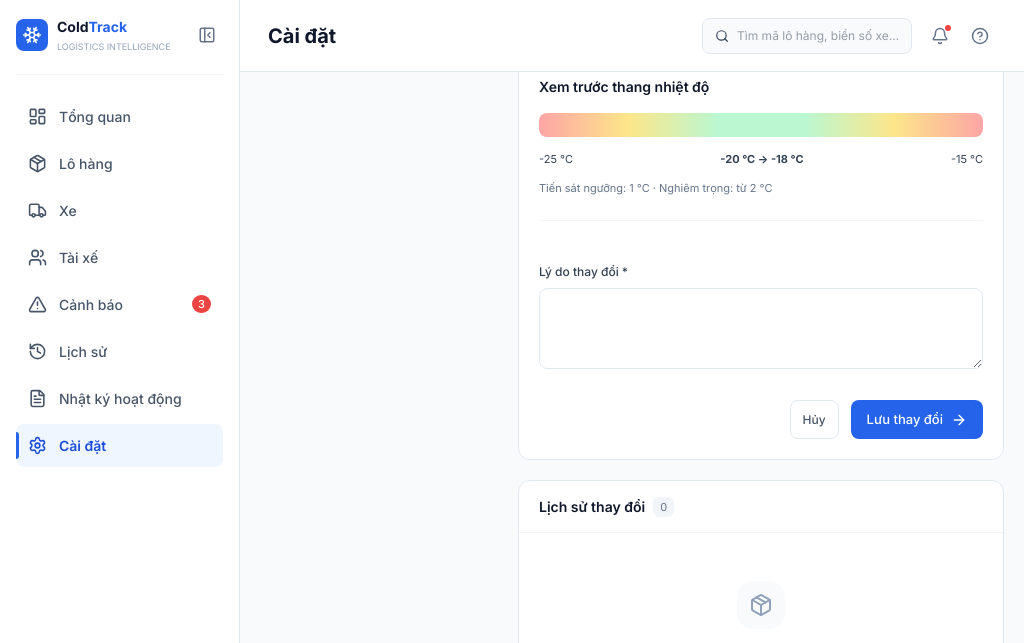
Scenario: B2 navigation and data states › requires threshold audit reason and saves with confirmation
(page scrolled)
Click the button "Lưu thay đổi".
click(917, 420)  # box x1=851 y1=400 x2=983 y2=439
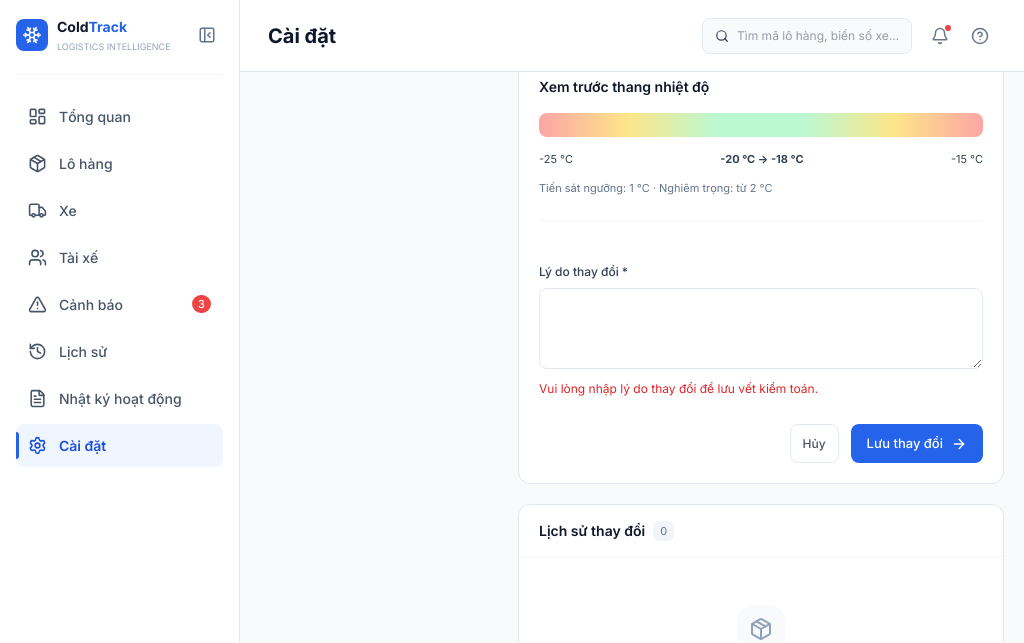
expect the text "Vui lòng nhập lý do thay đổi để lưu vết kiểm toán." is shown: met, box x1=539 y1=381 x2=818 y2=396
Type "Cập nhật dải mặc định cho đơn mới" into the text box labelled "Lý do thay đổi".
click(761, 329); type("Cập nhật dải mặc định cho đơn mới")  # box x1=539 y1=288 x2=983 y2=369
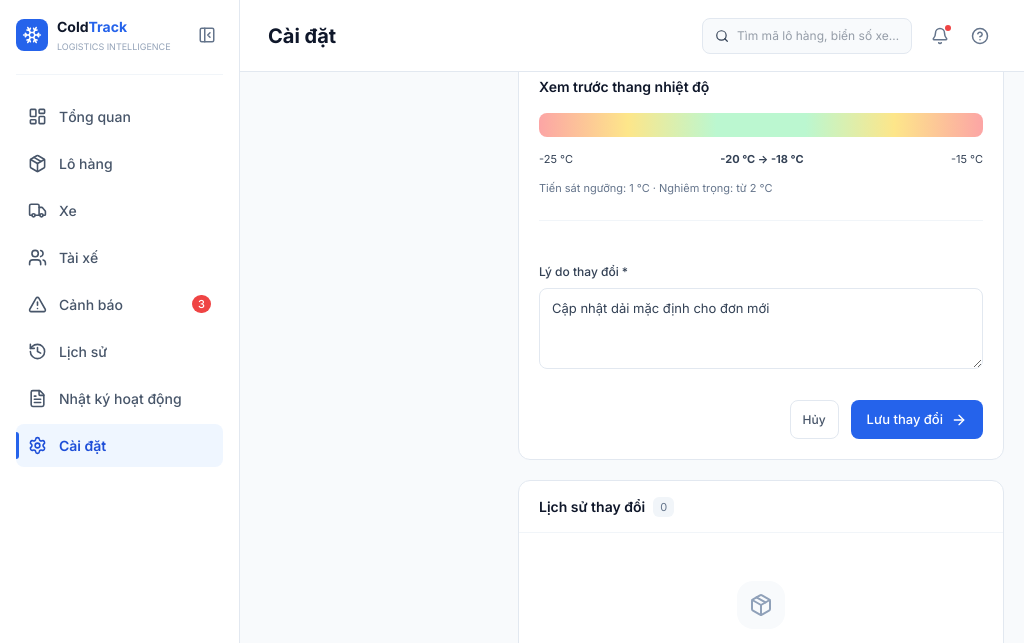
Click the button "Lưu thay đổi".
click(917, 420)  # box x1=851 y1=400 x2=983 y2=439
(page scrolled)
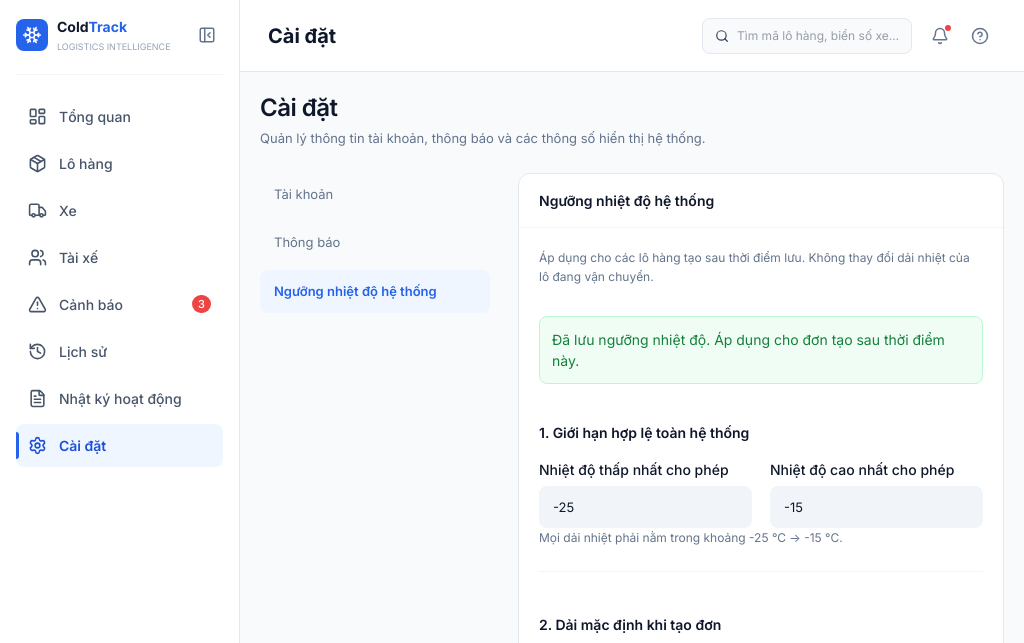
expect the text "Đã lưu ngưỡng nhiệt độ. Áp dụng cho đơn tạo sau thời điểm này." is shown: met, box x1=539 y1=316 x2=983 y2=384
